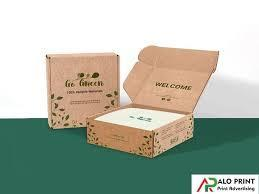box: (86, 46, 219, 158), (45, 52, 121, 130)
